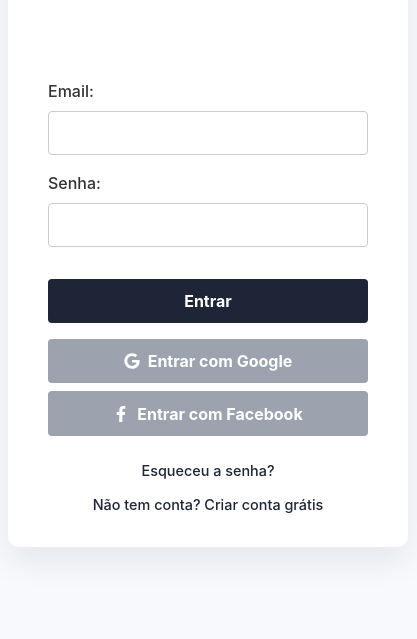
it: LoginPage › shows error message when login fails
In the field labelled "Email:": point(208, 133) [48,111,368,155], type "julio@teste.com"
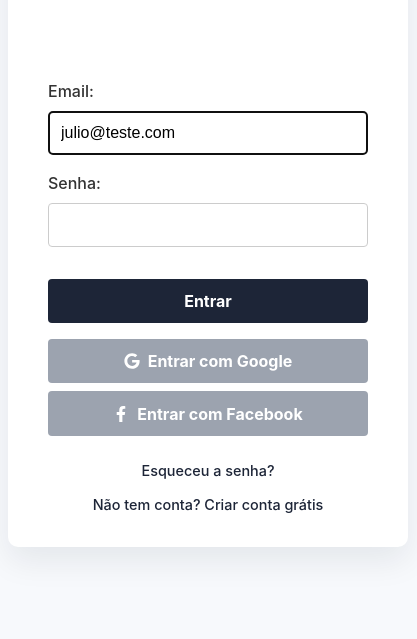
In the password field labelled "Senha:": point(208, 225) [48,203,368,247], type "senhaerrada"
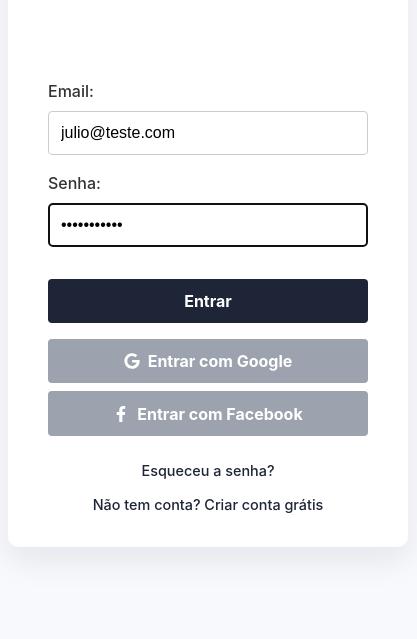
Click the button "Entrar": point(208, 301) [48,279,368,323]
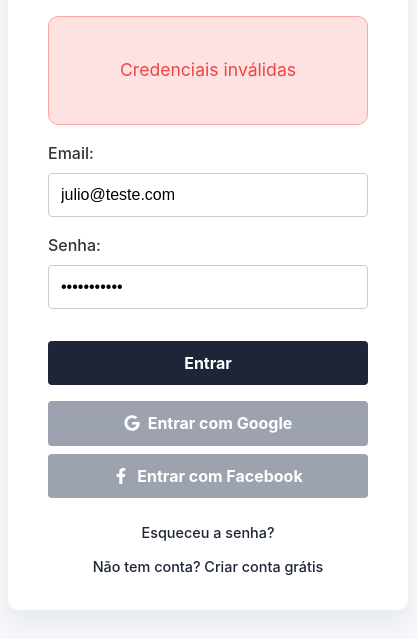
Now the text "Credenciais inválidas" is shown, box [48,16,368,125]
